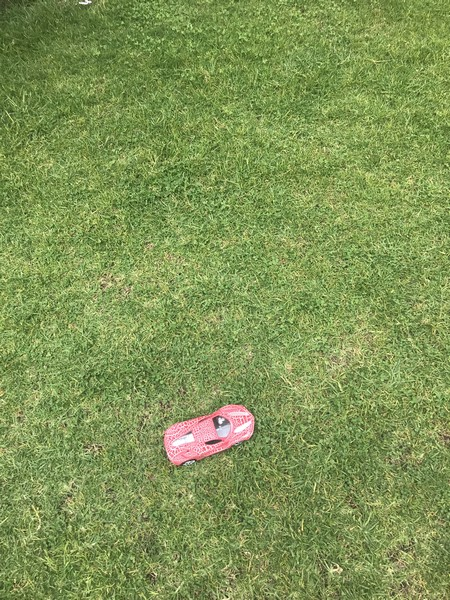RC: (162, 403, 258, 468)
